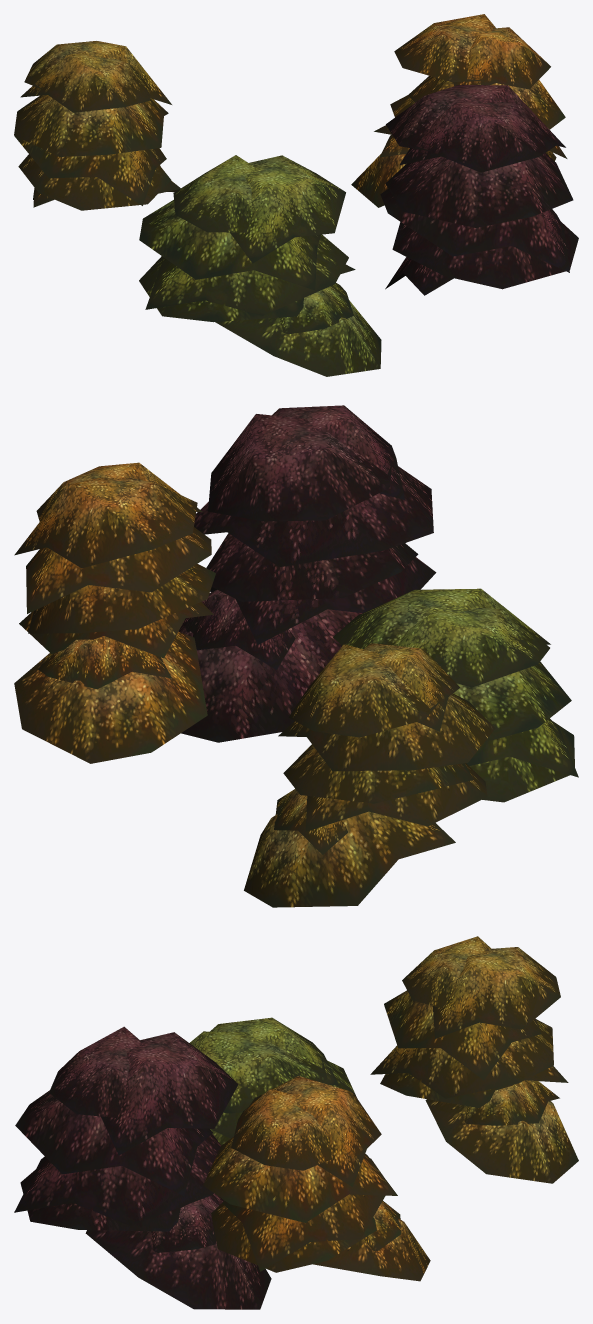
File: plants_tall_trees.fbx
The picture shows the model from 3 angles, top to bottom: view 1: azimuth 30°, elevation 25°; view 2: azimuth 150°, elevation 25°; view 3: azimuth 270°, elevation 25°; orthographic projection. The views are drawn at different scales.
Visible parts, largest first — view 1: plants_tall_trees-0; view 2: plants_tall_trees-0; view 3: plants_tall_trees-0.
Boxes of the visible parts, <box> form: plants_tall_trees-0: <box>14,14,578,376</box>; plants_tall_trees-0: <box>14,405,578,907</box>; plants_tall_trees-0: <box>14,936,578,1309</box>.
Size of the model in its own units: 14.33 by 7.75 by 14.91.
